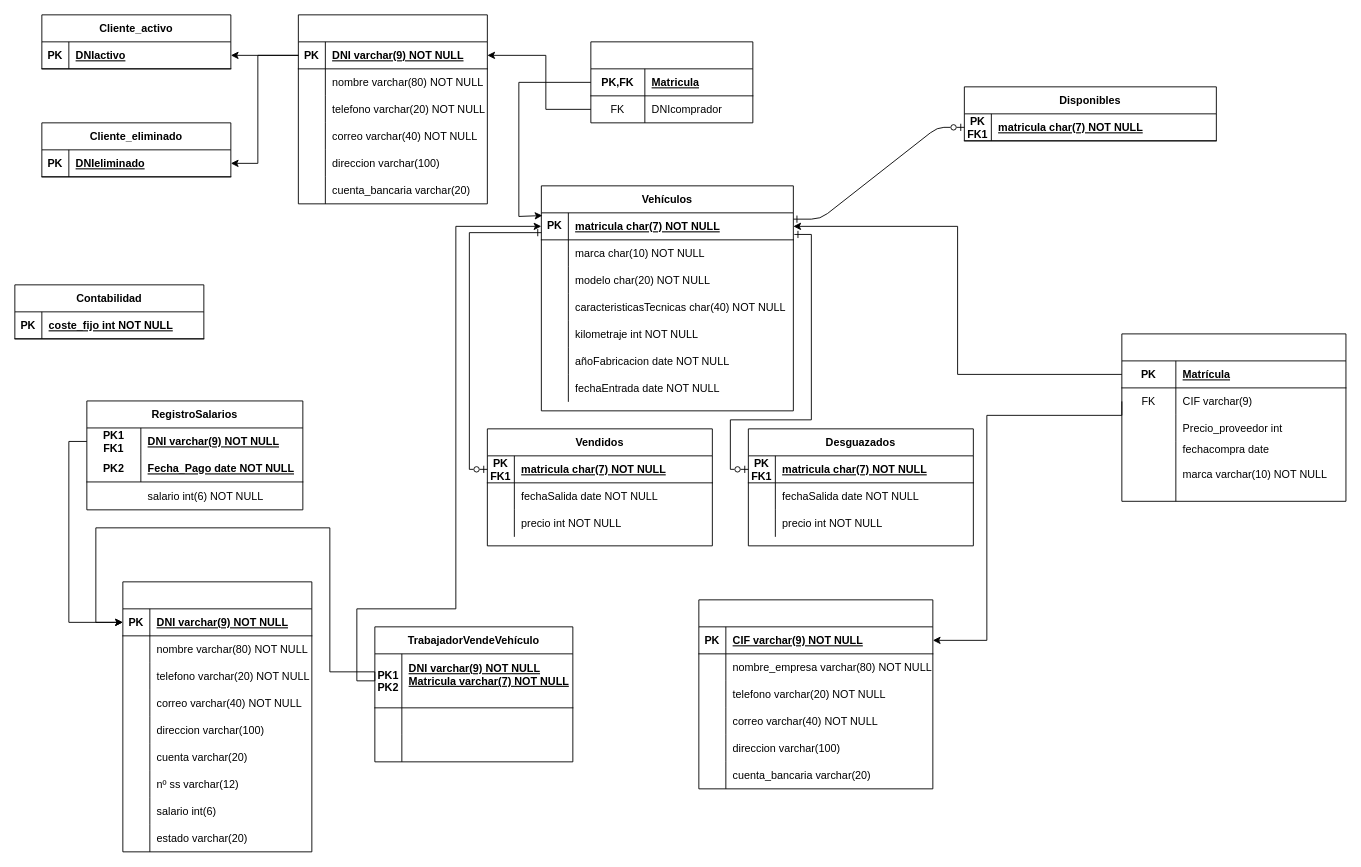
This 1361x867 diagram has some shape labels left out. The shapes that lost their labels are listed below. From the top down, each one's box as (x1, y1, x2, y2) in pixels, then its label:
(590, 41, 753, 123): ClienteCompraVehiculo
(297, 14, 487, 204): Cliente
(1121, 333, 1346, 501): ProveedorSuministraVehículo
(698, 599, 933, 789): Proveedor
(122, 581, 312, 852): Trabajador
